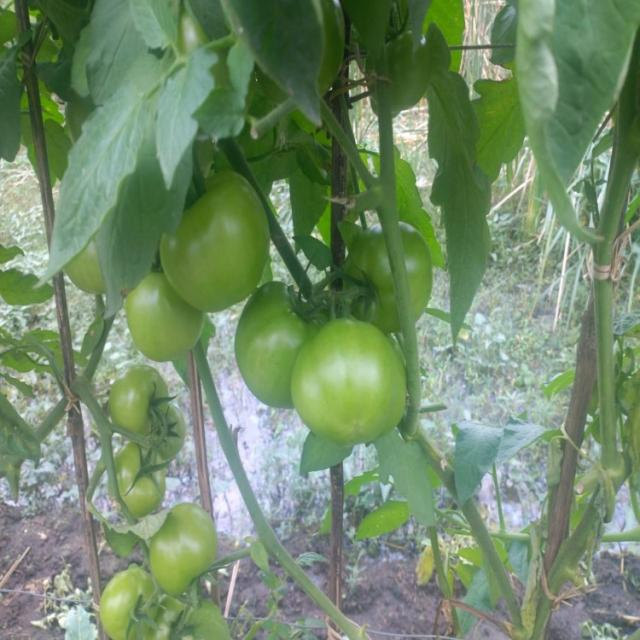tomato: (289, 312, 415, 441), (160, 168, 274, 306), (235, 286, 328, 410), (255, 4, 350, 106), (344, 227, 434, 330), (126, 278, 206, 360), (150, 505, 218, 593), (101, 568, 165, 637), (175, 8, 225, 82), (112, 447, 167, 514), (109, 372, 165, 435), (64, 232, 112, 305), (173, 597, 239, 640), (145, 402, 186, 462)
